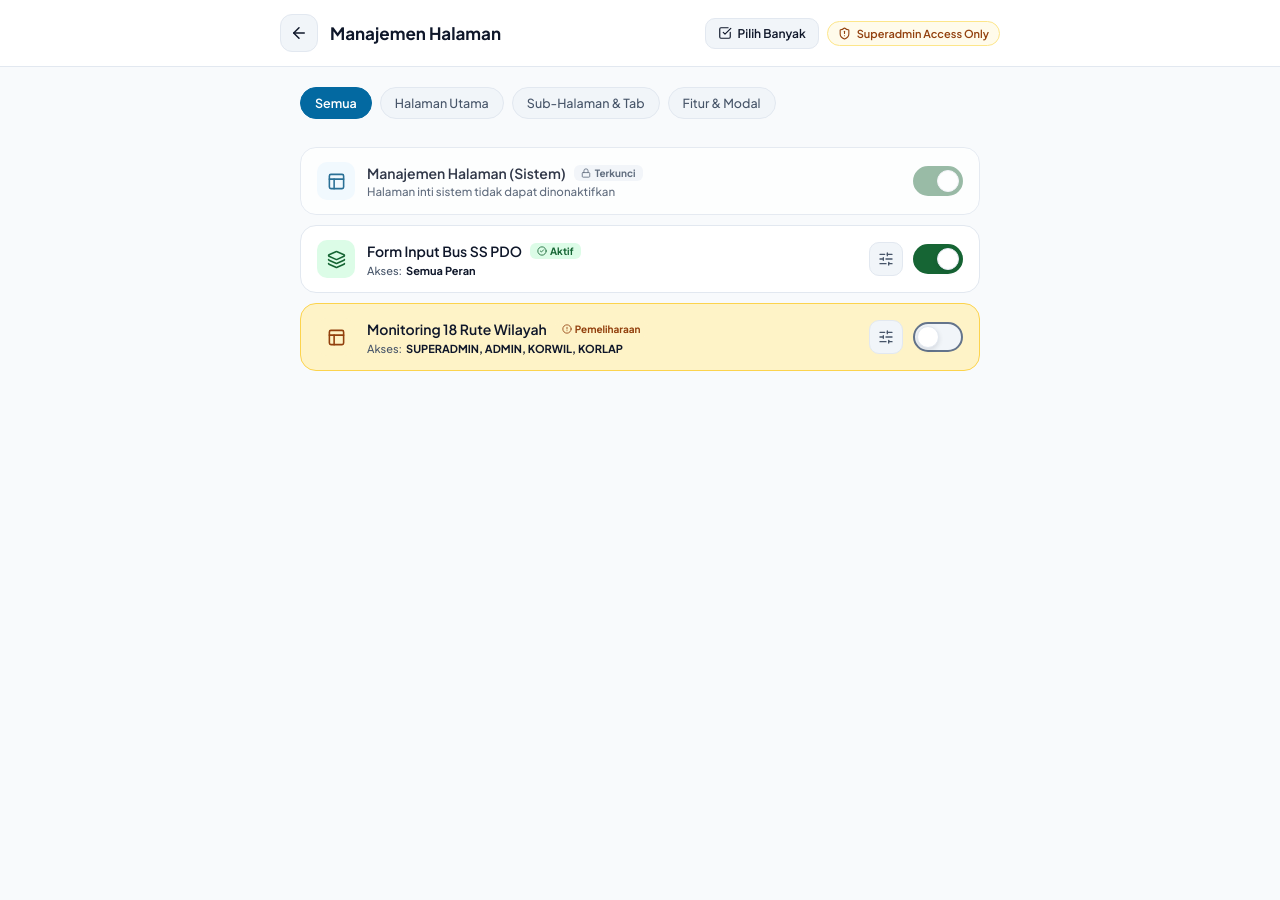
PageManagementPage › mengaktifkan mode seleksi banyak dan menampilkan floating bulk action bar saat kartu dipilih
The image size is (1280, 900).
Click the button with test id "btn-toggle-select-mode" at point(762, 33), box [704,18,819,48]
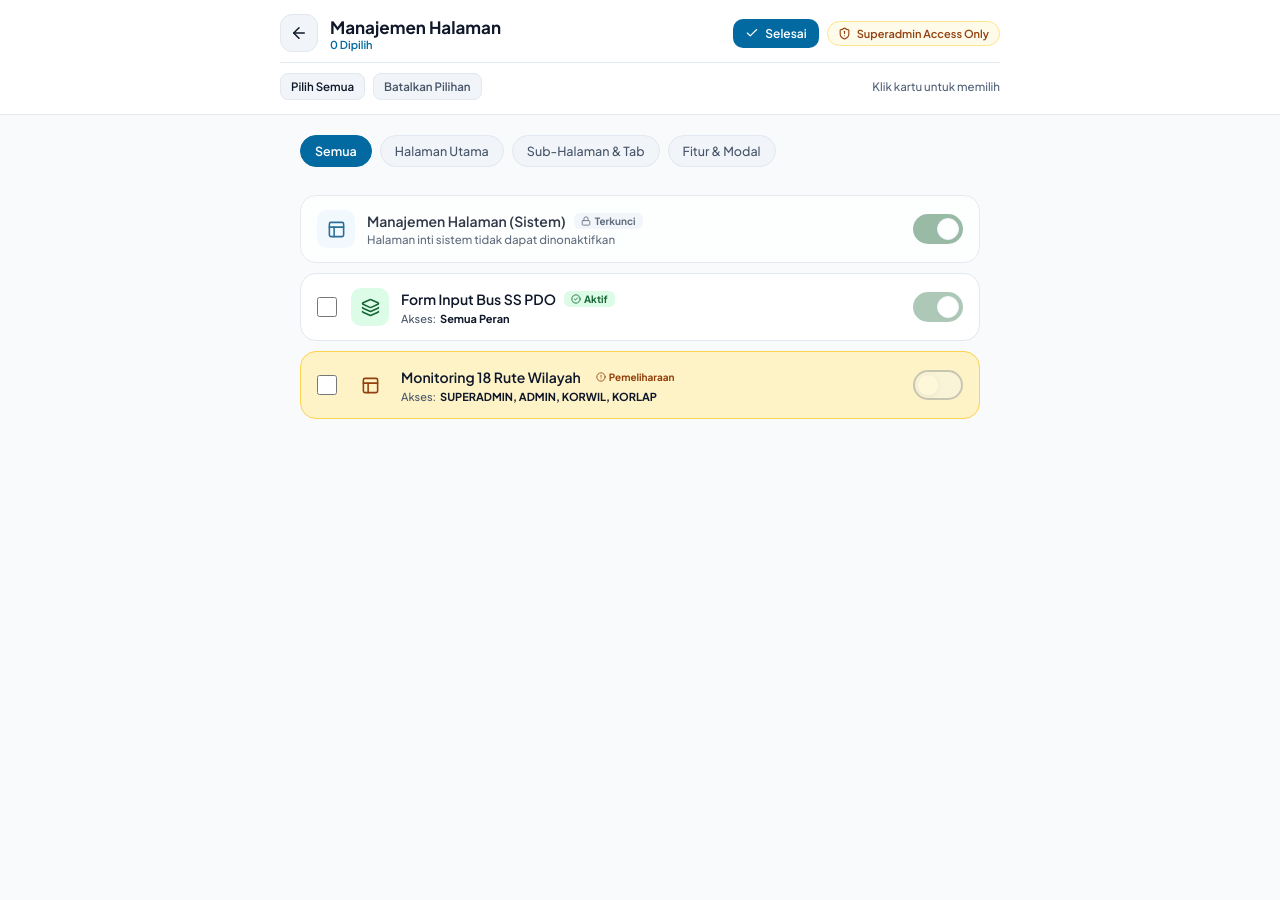
Expected: the text "Selesai" is shown, [765,26,807,40]
Expected: the text "Pilih Semua" is shown, [280,73,365,100]
Expected: the checkbox next to "Form Input Bus SS PDO" is shown
Click the checkbox next to "Form Input Bus SS PDO" at point(327, 307), box [317,297,337,317]
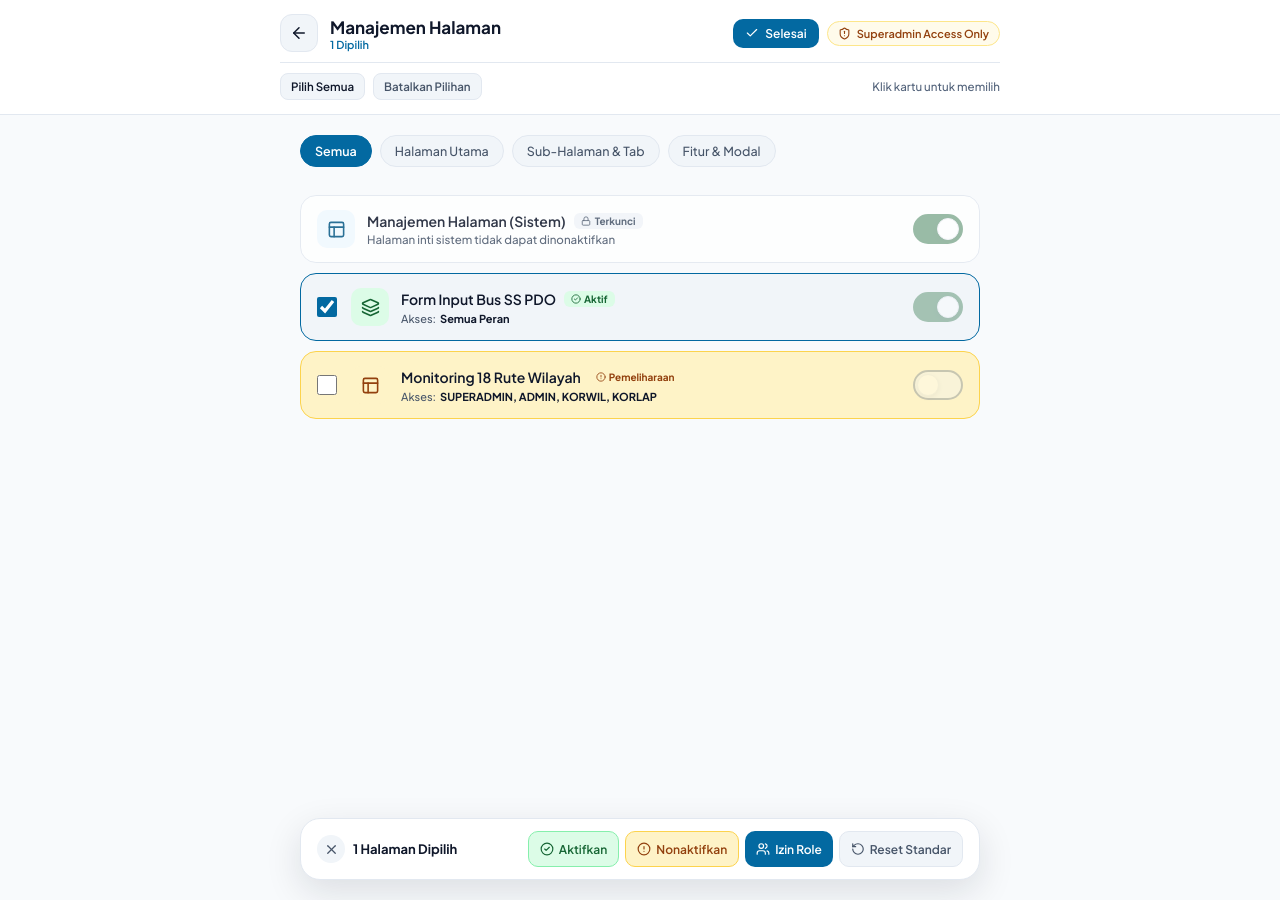
Expected: the text "1 Halaman Dipilih" is shown, [353,841,457,857]
